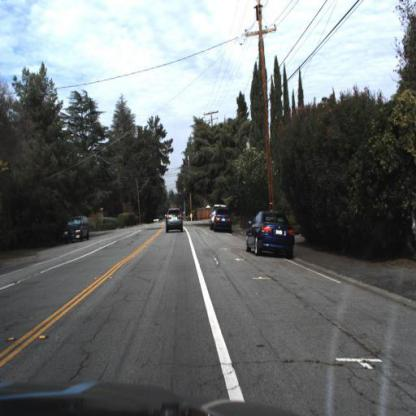car: (242, 208, 297, 261), (60, 210, 94, 252), (61, 209, 93, 247), (160, 202, 187, 238), (210, 207, 236, 238), (208, 209, 229, 236)
